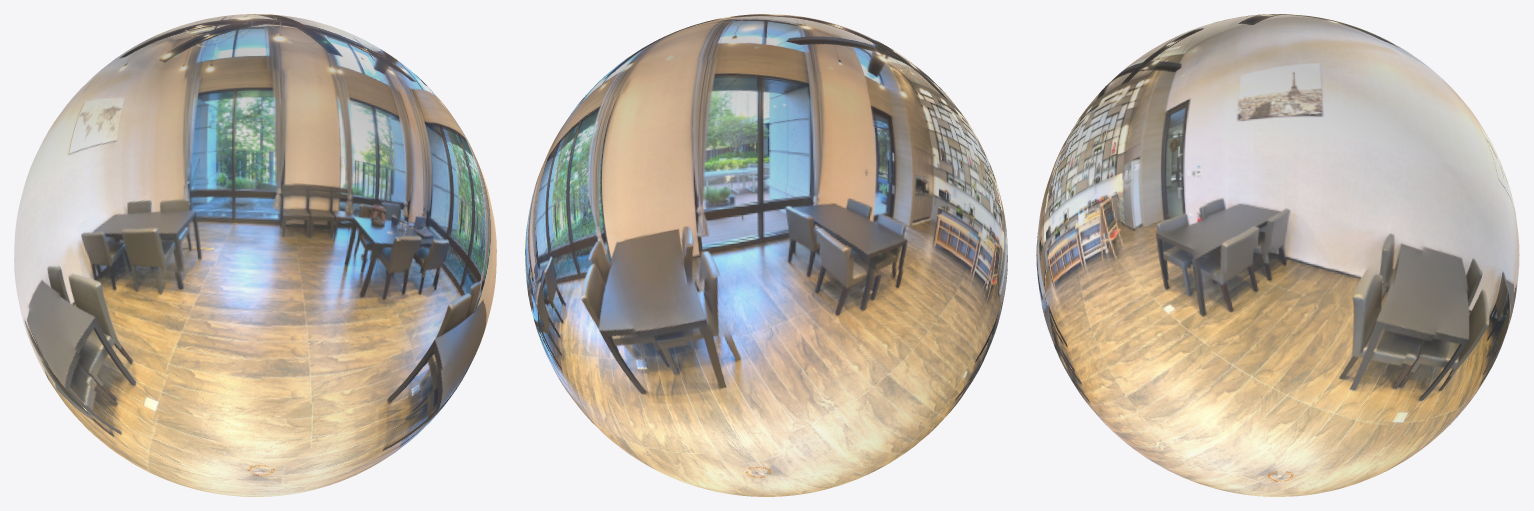
3 renders of one model, left to right at view 1: azimuth 30°, elevation 25°; view 2: azimuth 150°, elevation 25°; view 3: azimuth 270°, elevation 25°, orthographic.
Parts seen in each view (by area): view 1: Mesh_0; view 2: Mesh_0; view 3: Mesh_0.
Boxes of the visible parts, x1,y1,x2,y2 form: Mesh_0: [14, 14, 496, 496]; Mesh_0: [525, 14, 1007, 496]; Mesh_0: [1036, 14, 1519, 496].
Bounding box in the file's own units: 3.4 × 3.4 × 3.4.
Materials: 2 (1 with a texture image).
